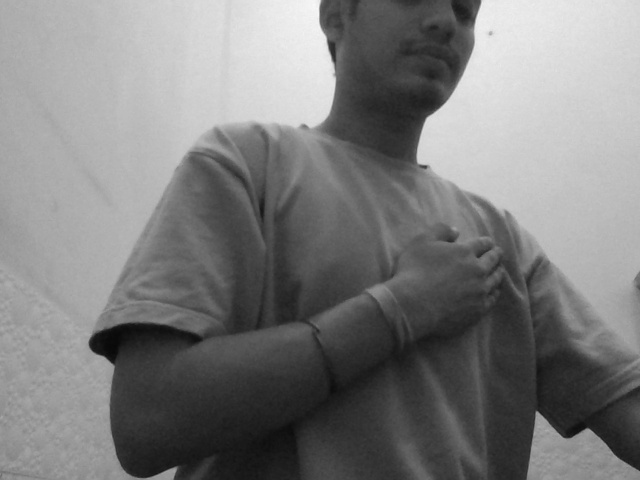Sorry: (373, 205, 541, 362)
